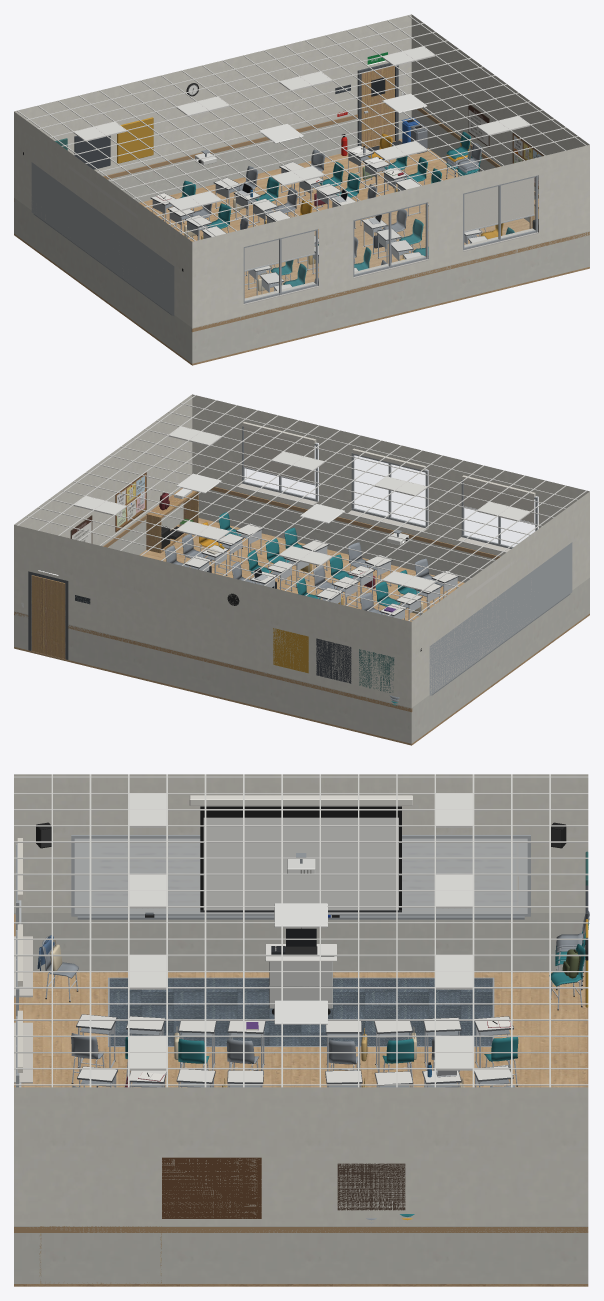
File: wancai_multi.glb
3 views of the same model, one above another, from view 1: azimuth 30°, elevation 25°; view 2: azimuth 150°, elevation 25°; view 3: azimuth 270°, elevation 25° (orthographic). The views are drawn at different scales.
Visible parts, largest first — view 1: WALL_N_wall, WALL_S_wall, WALL_ceil_wancai_multi_grid, WALL_S_wain, wancai_multi_props, WALL_S_glass, wancai_multi_floorm, WALL_E_wall, WALL_W_wall, WALL_W_trim, WALL_N_wain, WALL_W_wain (+9 smaller); view 2: WALL_N_wall, WALL_ceil_wancai_multi_grid, WALL_S_wall, WALL_N_wain, WALL_W_wall, wancai_multi_props, WALL_E_wall, WALL_W_trim, WALL_S_wain, WALL_W_wain, WALL_N_trim, wancai_multi_floorm (+10 smaller); view 3: WALL_E_wall, WALL_ceil_wancai_multi_grid, WALL_E_wain, WALL_W_wall, WALL_W_trim, wancai_multi_floorm, WALL_W_wain, wancai_multi_props, wancai_multi_carpet, WALL_E_trim, WALL_W_print, wancai_multi_metal (+3 smaller).
Part boxes in pixels (x1,y1,x2,y2): WALL_N_wall: (14, 14, 411, 175); WALL_S_wall: (192, 145, 589, 327); WALL_ceil_wancai_multi_grid: (17, 15, 586, 240); WALL_S_wain: (192, 231, 589, 363); wancai_multi_props: (150, 93, 538, 291); WALL_S_glass: (245, 178, 534, 300); wancai_multi_floorm: (14, 139, 589, 365); WALL_E_wall: (411, 14, 589, 192); WALL_W_wall: (14, 111, 192, 327); WALL_W_trim: (23, 152, 183, 316); WALL_N_wain: (102, 110, 411, 202); WALL_W_wain: (14, 198, 192, 363); WALL_N_wall: (14, 525, 411, 707); WALL_ceil_wancai_multi_grid: (17, 395, 586, 621); WALL_S_wall: (192, 394, 589, 555); WALL_N_wain: (14, 611, 411, 743); WALL_W_wall: (411, 491, 589, 707); wancai_multi_props: (159, 473, 459, 705); WALL_E_wall: (14, 394, 192, 545); WALL_W_trim: (420, 542, 572, 695); WALL_S_wain: (198, 486, 501, 582); WALL_W_wain: (411, 578, 589, 743); WALL_N_trim: (15, 571, 412, 712); wancai_multi_floorm: (14, 518, 589, 745); WALL_E_wall: (14, 1087, 588, 1225); WALL_ceil_wancai_multi_grid: (14, 774, 588, 1087); WALL_E_wain: (14, 1226, 588, 1283); WALL_W_wall: (14, 774, 588, 912); WALL_W_trim: (36, 795, 566, 928); wancai_multi_floorm: (14, 972, 588, 1286); WALL_W_wain: (14, 913, 585, 970); wancai_multi_props: (37, 859, 589, 1087); wancai_multi_carpet: (109, 978, 492, 1045); WALL_E_trim: (14, 1157, 588, 1232); WALL_W_print: (84, 843, 518, 910); wancai_multi_metal: (45, 853, 583, 1087).
Size of the model in its own units: 11.61 by 3.45 by 9.02.
Materials: 17 (9 with a texture image).
